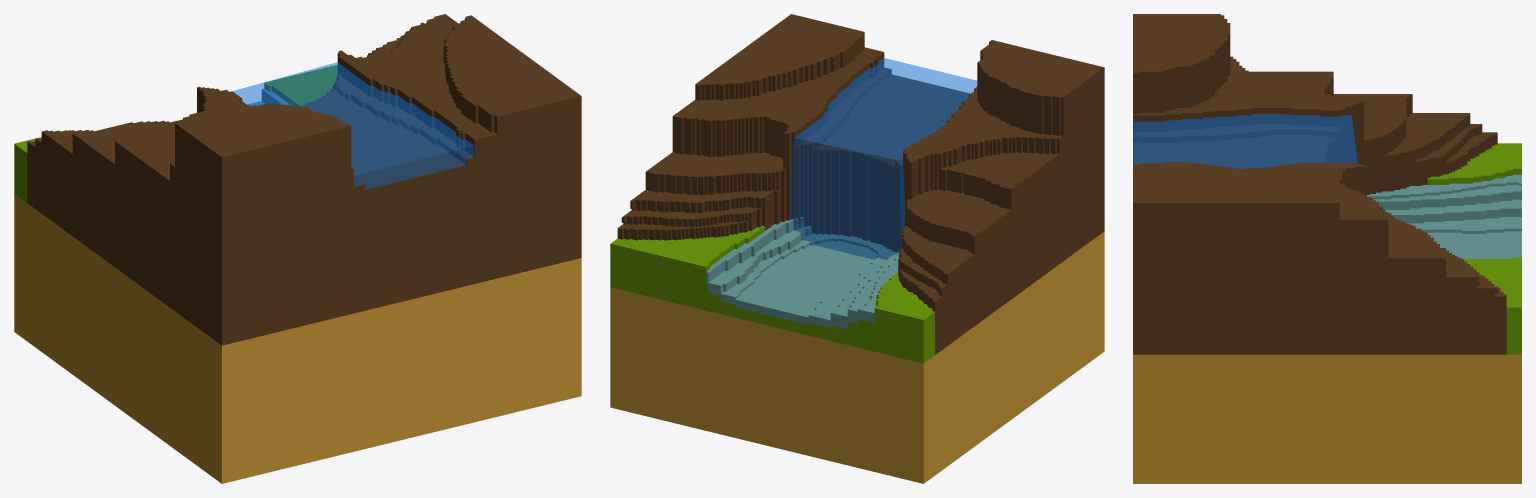
The picture shows the model from 3 angles, left to right: view 1: azimuth 30°, elevation 25°; view 2: azimuth 150°, elevation 25°; view 3: azimuth 270°, elevation 25°; orthographic projection. The views are drawn at different scales.
Parts seen in each view (by area): view 1: 14P, water.001; view 2: 14P, water.001; view 3: 14P, water.001.
Part boxes in pixels (x1=…): 14P: x1=14, y1=14, x2=581, y2=483; water.001: x1=232, y1=62, x2=474, y2=189; 14P: x1=610, y1=14, x2=1104, y2=483; water.001: x1=790, y1=58, x2=977, y2=259; 14P: x1=1133, y1=14, x2=1521, y2=483; water.001: x1=1133, y1=114, x2=1357, y2=169.
Bounding box in the file's own units: 12.8 × 11.1 × 12.8.
Materials: 2 (1 with a texture image).
